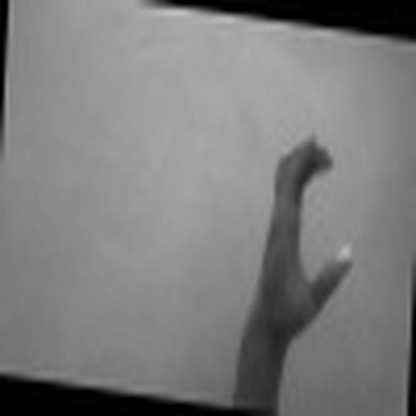c: (254, 131, 354, 334)
